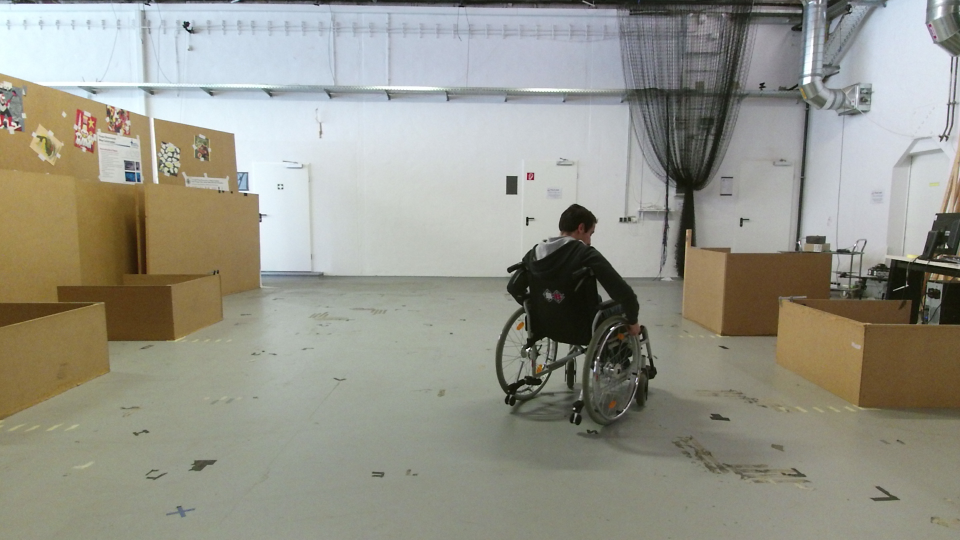wheelchair: (486, 197, 660, 435)
